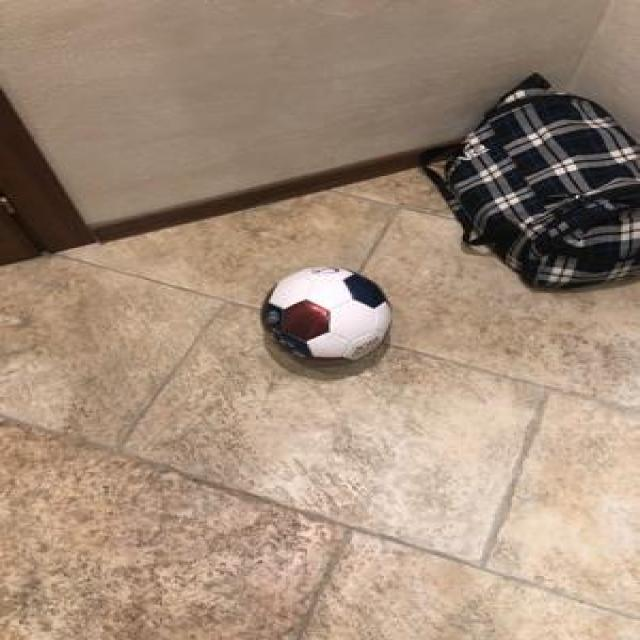Soccer Ball: (254, 262, 395, 368)
